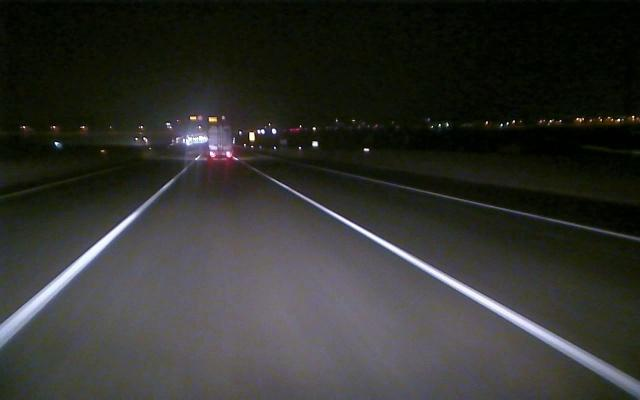lane: (252, 168, 637, 396), (3, 184, 167, 346), (347, 173, 637, 242), (0, 164, 130, 201)
